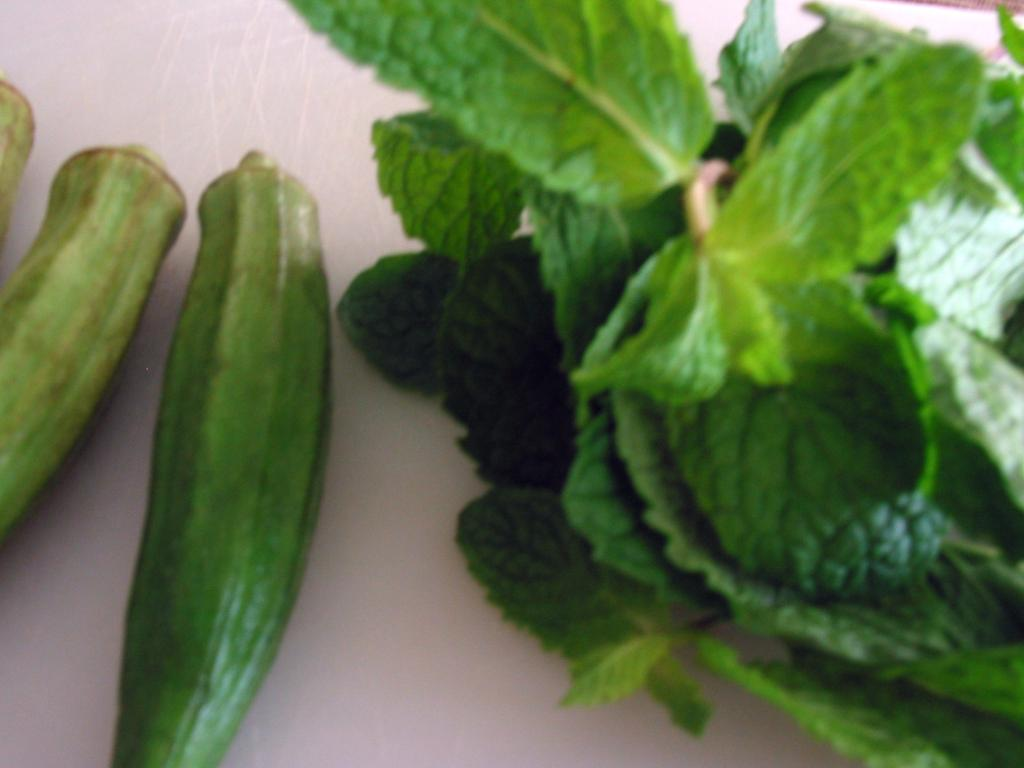okra: (111, 151, 334, 766), (0, 144, 186, 554)
